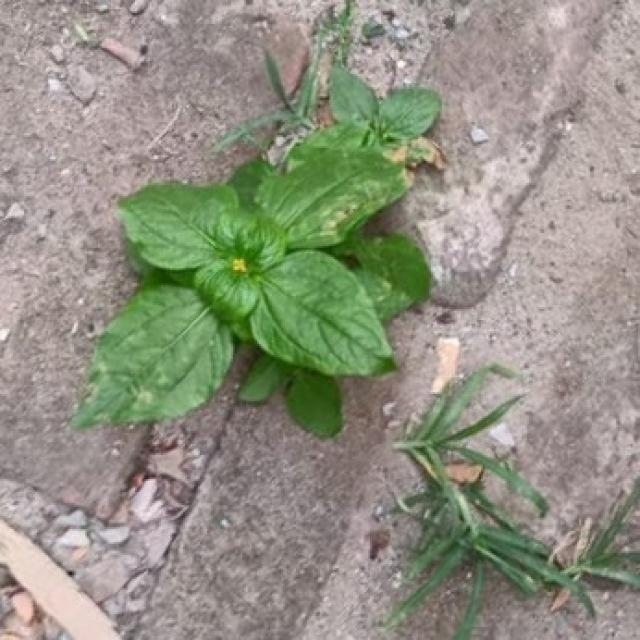weed: (74, 4, 442, 437), (390, 364, 640, 639)
